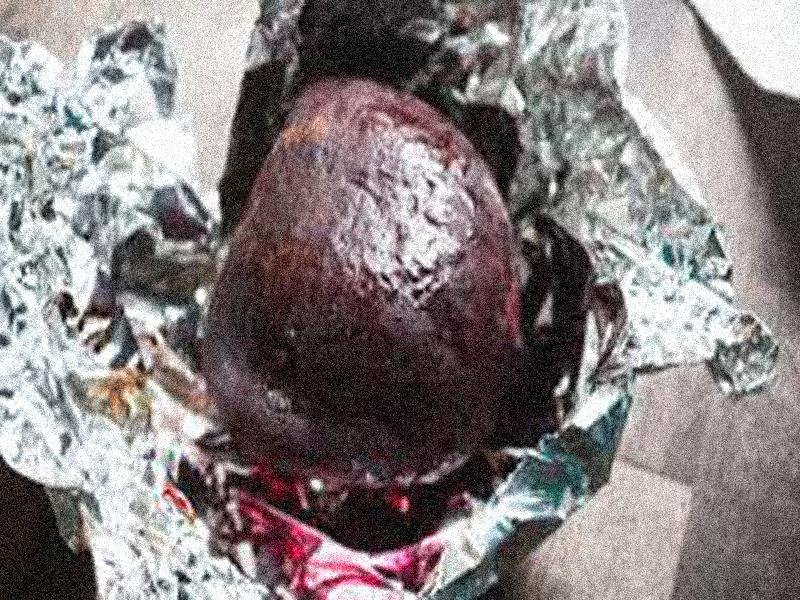Beet: (201, 74, 527, 469)
